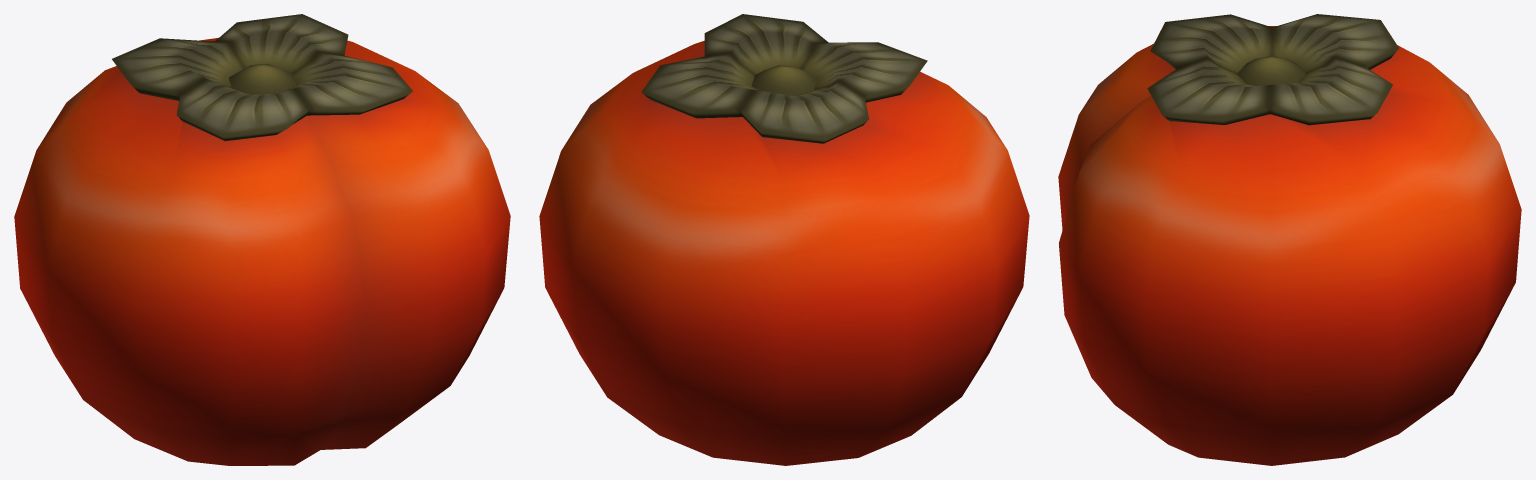
The model's file is Persimmon_Red.fbx.
3 views of the same model, side by side, from view 1: azimuth 30°, elevation 25°; view 2: azimuth 150°, elevation 25°; view 3: azimuth 270°, elevation 25° (orthographic). The views are drawn at different scales.
Visible parts, largest first — view 1: Persimmon_Red; view 2: Persimmon_Red; view 3: Persimmon_Red.
Boxes of the visible parts, left/top/right/bottom form: Persimmon_Red: left=14, top=14, right=510, bottom=465; Persimmon_Red: left=539, top=14, right=1029, bottom=465; Persimmon_Red: left=1058, top=14, right=1521, bottom=465.
Size of the model in its own units: 30.14 by 25.14 by 27.9.
Materials: 1 (1 with a texture image).
